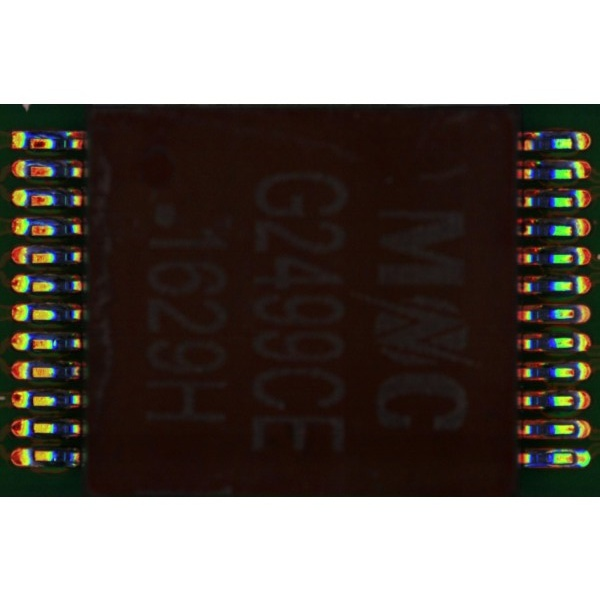Bad_podu: (568, 454, 584, 462)
Bad_qiaojiao: (546, 447, 573, 452), (548, 462, 574, 467)
